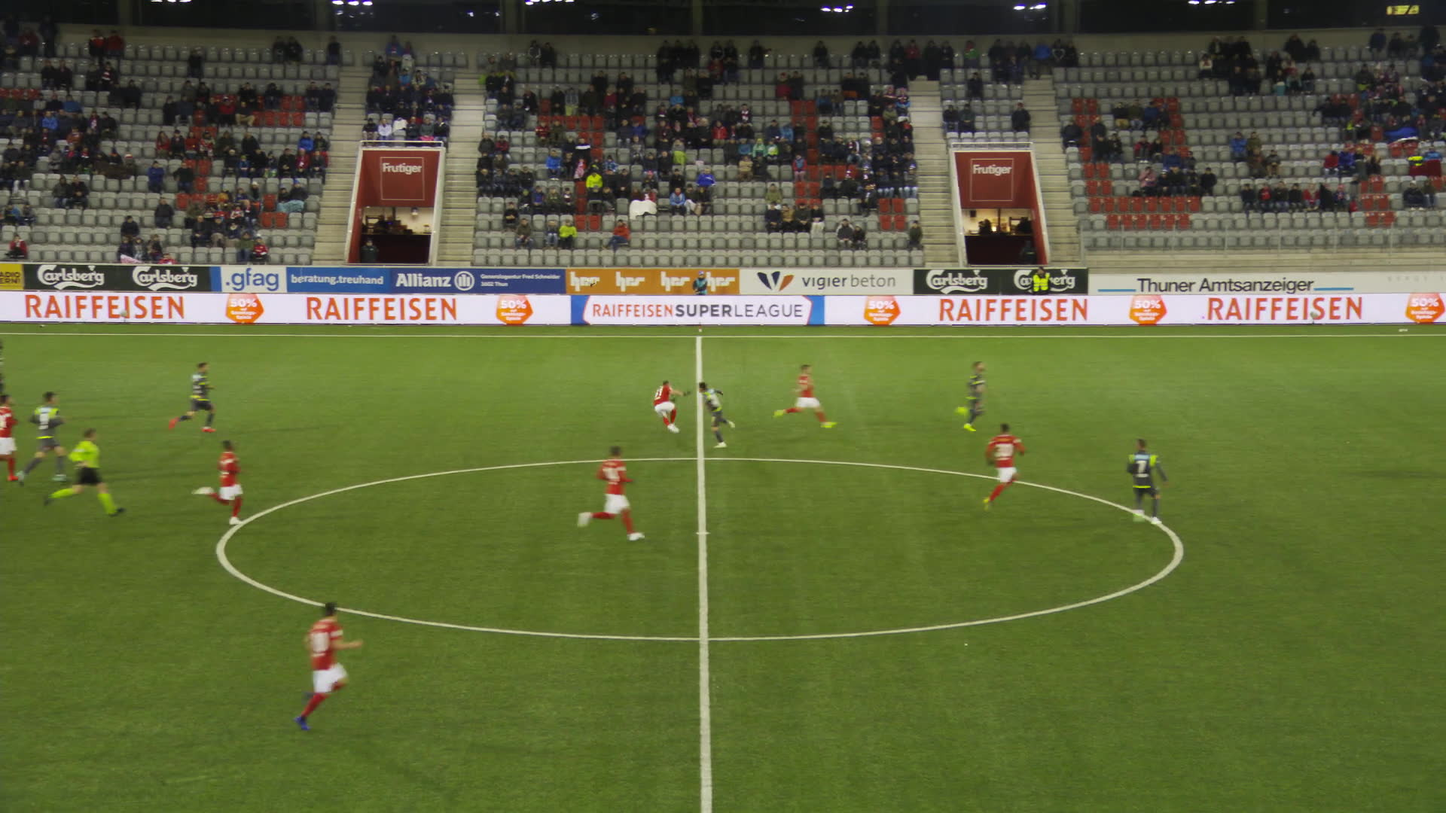ball: (588, 279, 596, 285)
player: (294, 598, 364, 729), (578, 443, 646, 540), (17, 390, 69, 484), (193, 440, 243, 523), (983, 422, 1026, 514), (765, 361, 823, 428), (1126, 437, 1167, 523), (168, 361, 215, 434), (938, 364, 977, 431), (698, 381, 734, 448), (652, 376, 688, 436), (0, 399, 17, 487)
referee: (44, 427, 127, 516)
